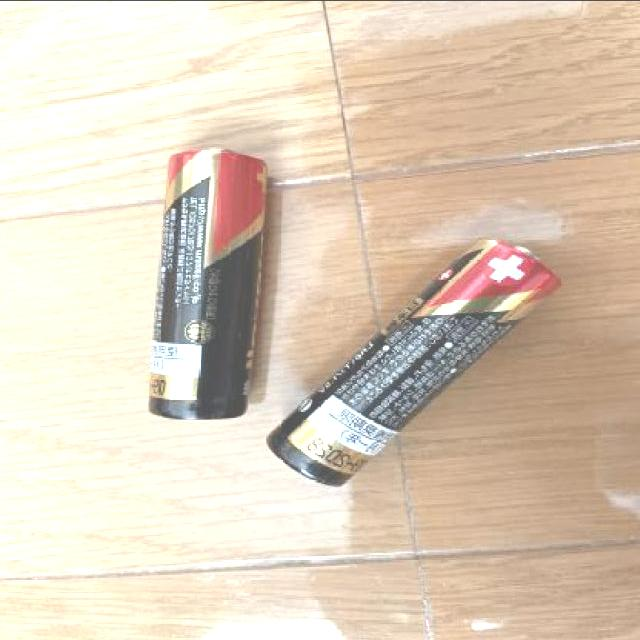AA: (262, 232, 570, 491), (144, 140, 282, 425)
